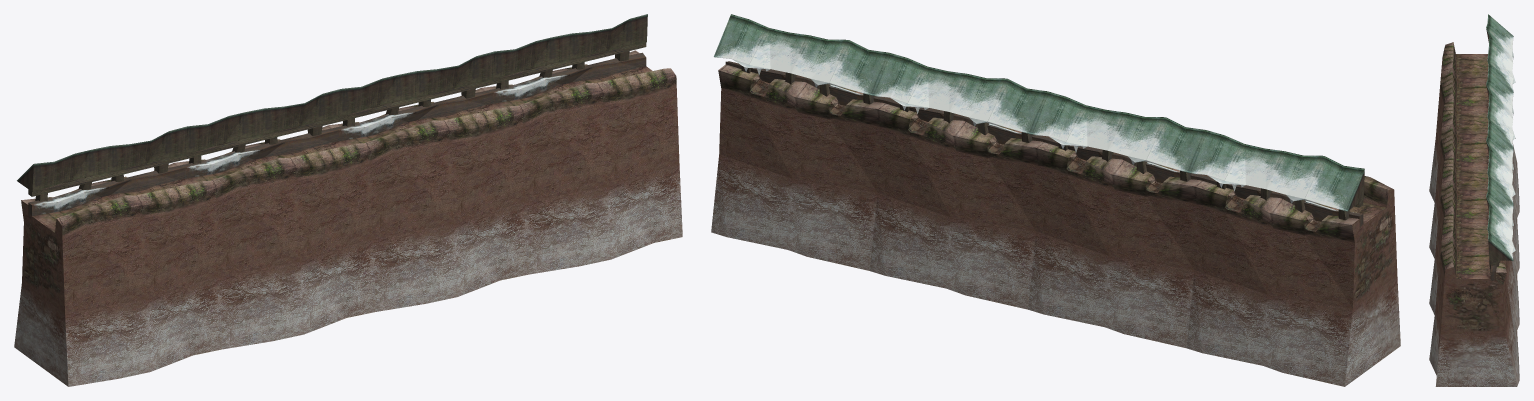
Rendered from C1SMWA40SNH.bgf.obj.
The picture shows the model from 3 angles, left to right: view 1: azimuth 30°, elevation 25°; view 2: azimuth 150°, elevation 25°; view 3: azimuth 270°, elevation 25°; orthographic projection. The views are drawn at different scales.
Visible parts, largest first — view 1: C1SMWA40SNH; view 2: C1SMWA40SNH; view 3: C1SMWA40SNH.
Boxes of the visible parts, x1,y1,x2,y2 form: C1SMWA40SNH: (14,14,682,386); C1SMWA40SNH: (711,14,1400,386); C1SMWA40SNH: (1429,14,1519,386).
Bounding box in the file's own units: 40 × 12.55 × 6.8.
4 materials, 4 textured.
